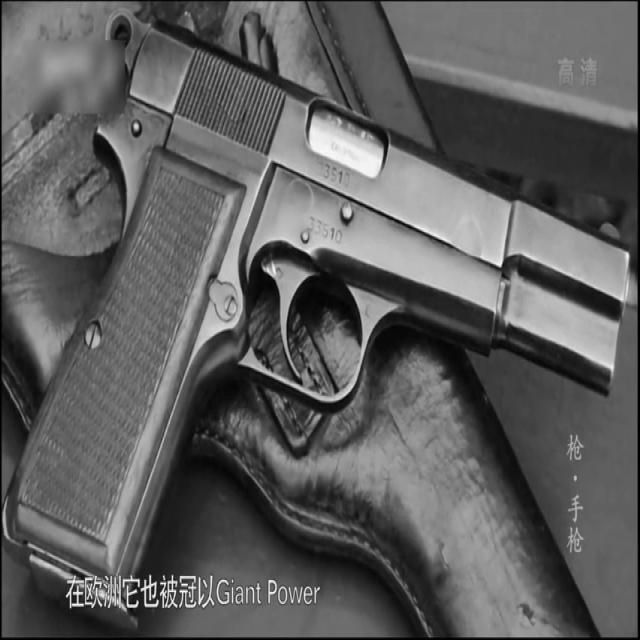Hand-Gun: (18, 8, 640, 603)
